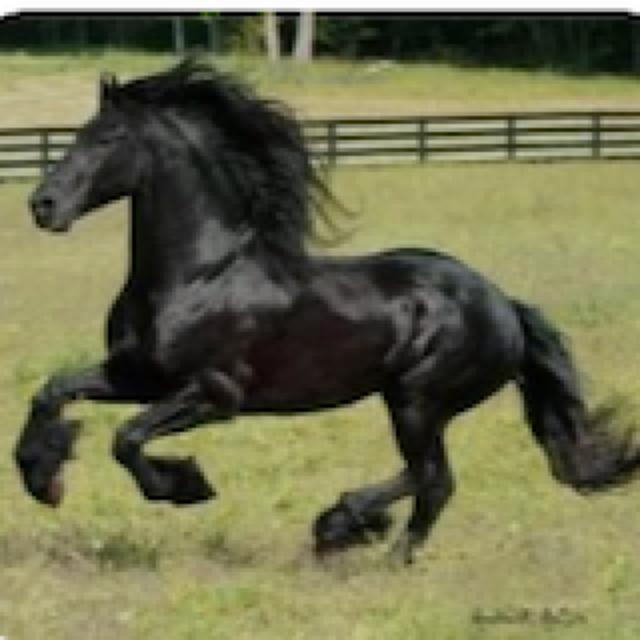Horse: (4, 52, 640, 572)
